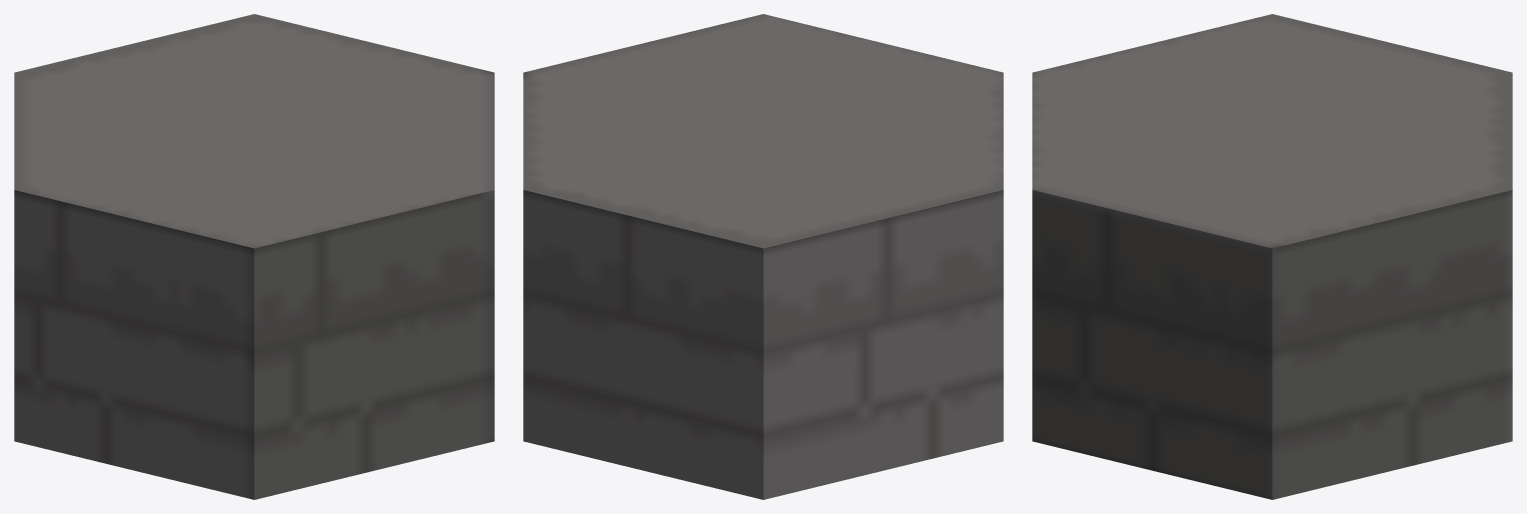
Rendered from wallStone.dae.
3 renders of one model, left to right at view 1: azimuth 30°, elevation 25°; view 2: azimuth 150°, elevation 25°; view 3: azimuth 270°, elevation 25°, orthographic.
Parts seen in each view (by area): view 1: wallStone; view 2: wallStone; view 3: wallStone.
Boxes of the visible parts, x1,y1,x2,y2 form: wallStone: (14,14,494,499); wallStone: (523,14,1003,499); wallStone: (1032,14,1512,499).
Size of the model in its own units: 100 by 50 by 86.6.
1 material, 1 textured.
